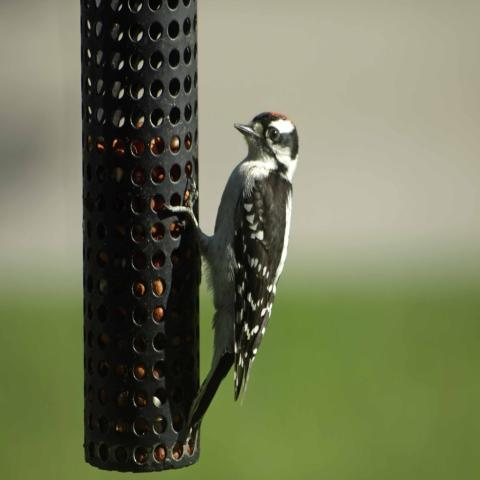bird: (180, 107, 301, 432)
